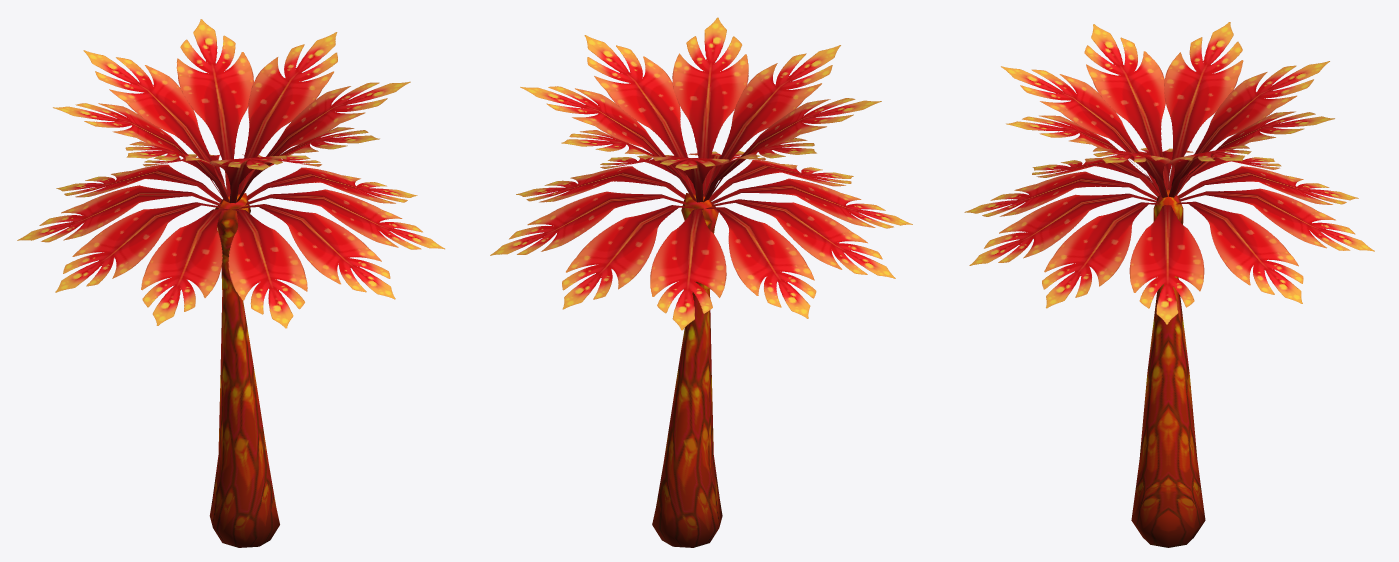
File: Red_Tree_05a.FBX
The picture shows the model from 3 angles, left to right: view 1: azimuth 30°, elevation 25°; view 2: azimuth 150°, elevation 25°; view 3: azimuth 270°, elevation 25°; orthographic projection.
Parts seen in each view (by area): view 1: Red_Tree_05a; view 2: Red_Tree_05a; view 3: Red_Tree_05a.
Part boxes in pixels (left/top/right/bottom): Red_Tree_05a: left=17, top=19, right=444, bottom=547; Red_Tree_05a: left=490, top=17, right=912, bottom=547; Red_Tree_05a: left=964, top=22, right=1374, bottom=547.
Bounding box in the file's own units: 290 × 327 × 293.
